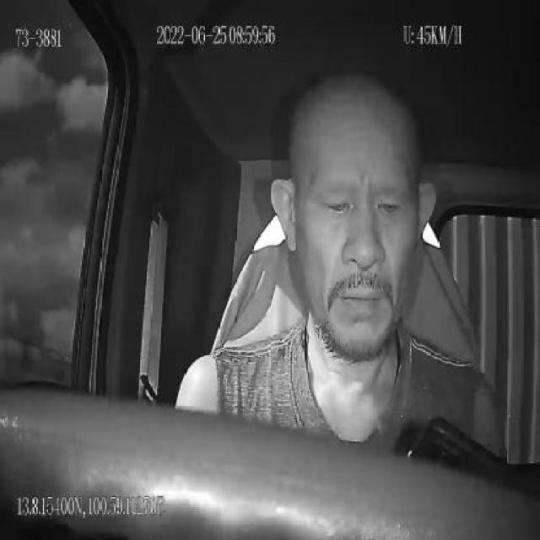phone: (406, 411, 520, 482)
